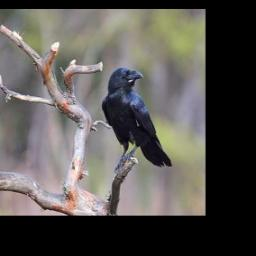Crow: (101, 65, 174, 171)
